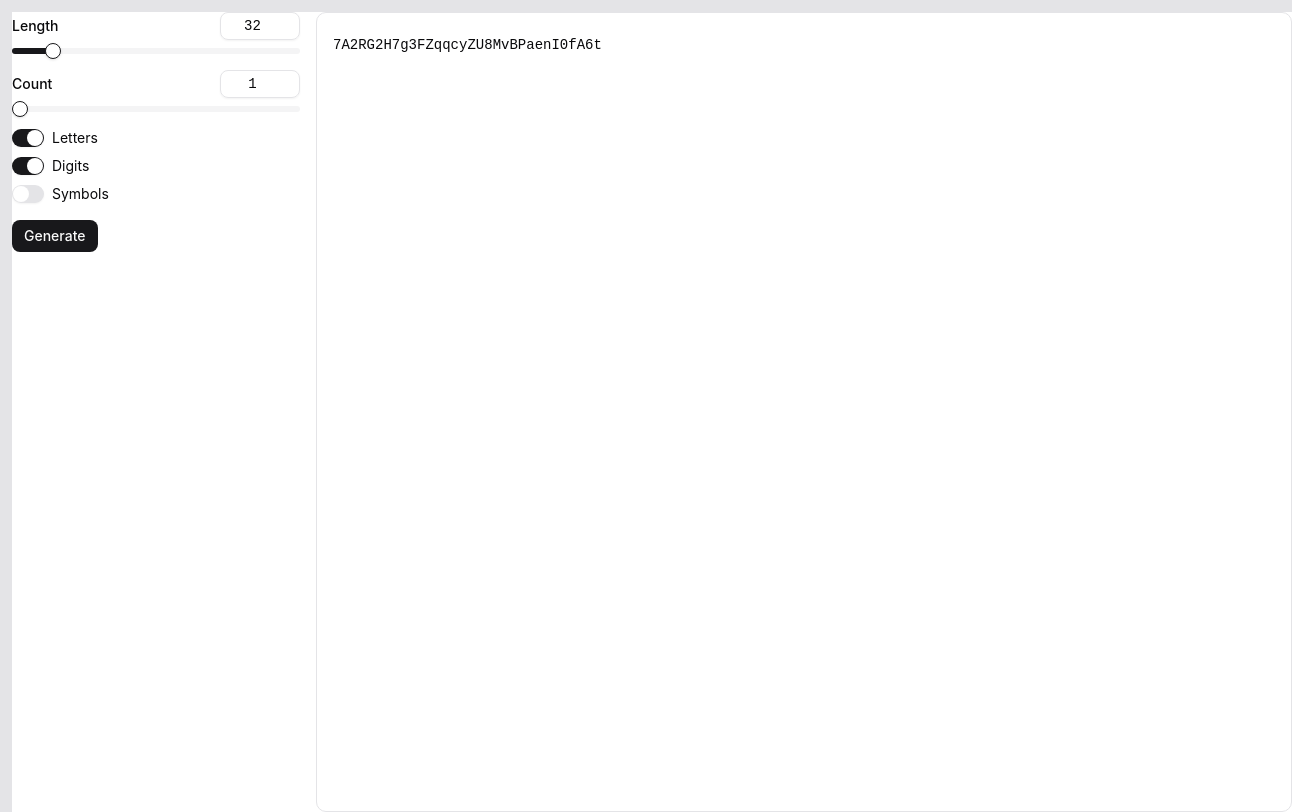
it: length input commits on Enter and clamps to maximum
Replace the text in the number field in the row of "Length" with "999": (260, 26) [220, 12, 300, 40]
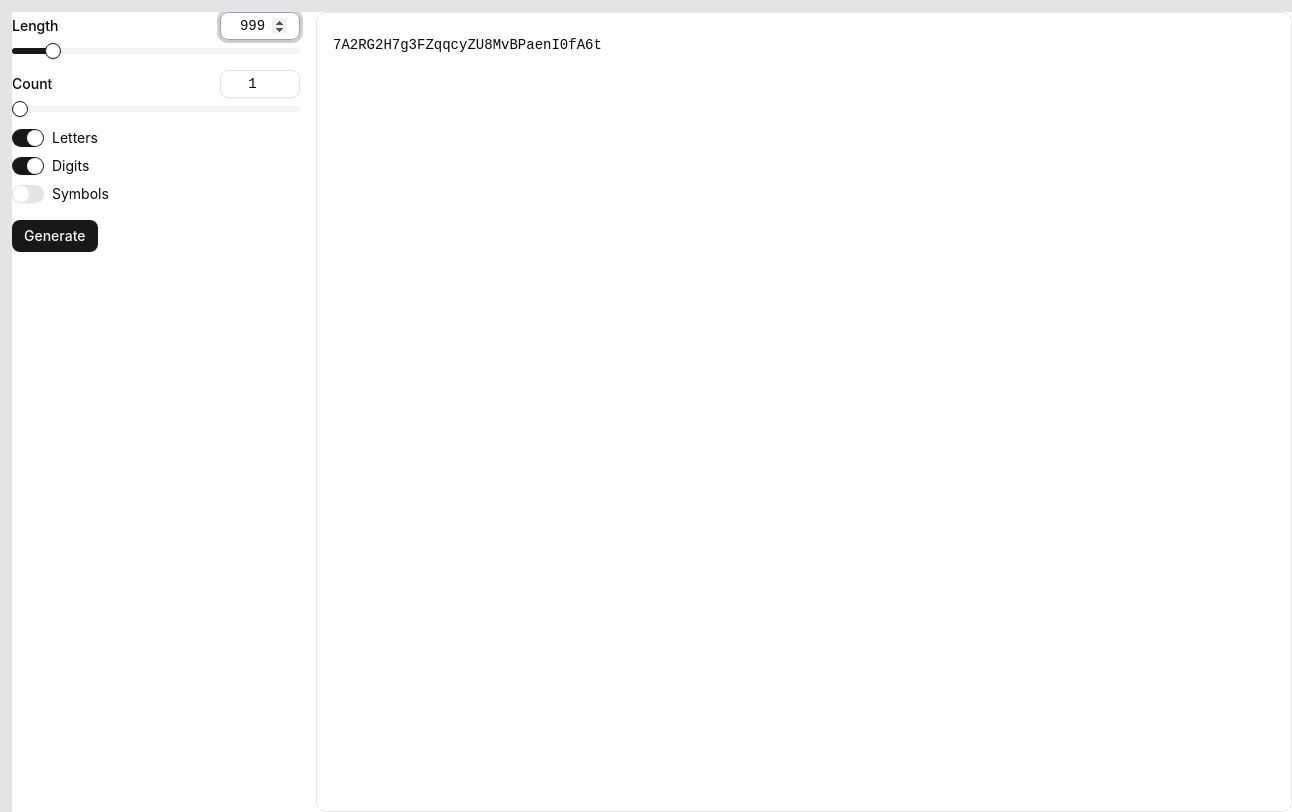
Press Enter in the number field in the row of "Length", box [220, 12, 300, 40]
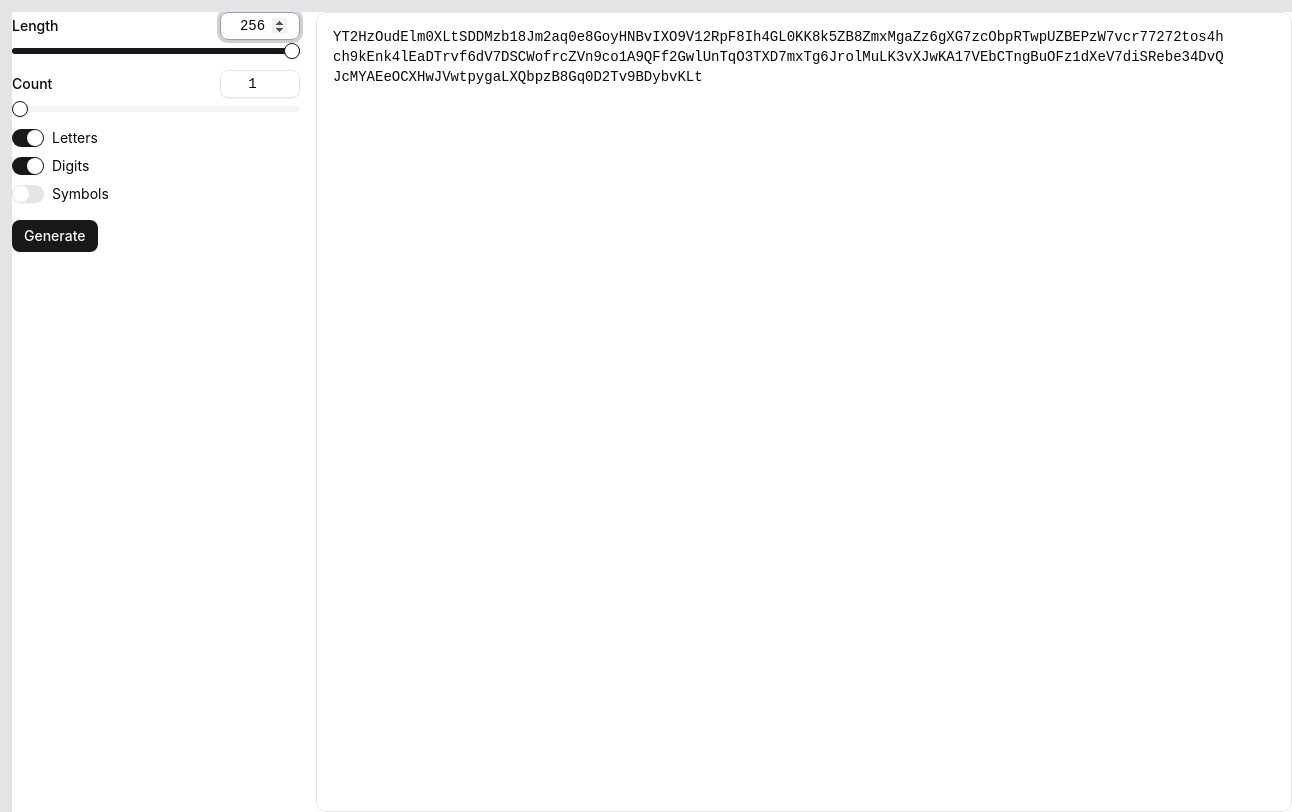
Now the number field in the row of "Length" holds "256", box [220, 12, 300, 40]
